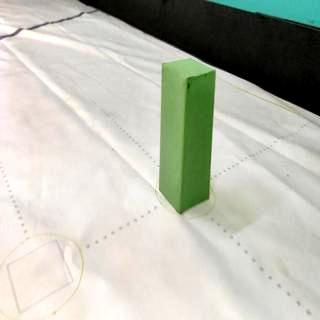greenbox: (159, 56, 217, 215)
